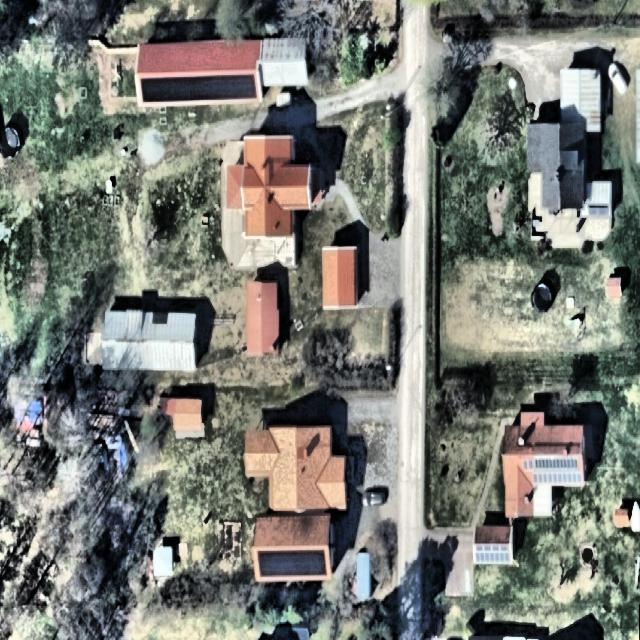roof_pv: (138, 69, 259, 107), (252, 543, 328, 580), (523, 456, 585, 485), (474, 540, 513, 568)
